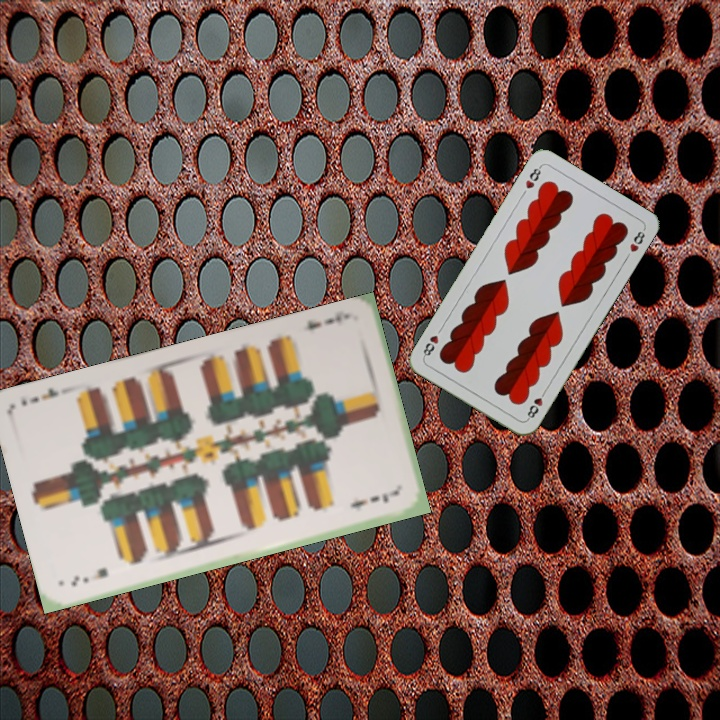E7: (302, 307, 353, 332), (67, 564, 111, 589)
H8: (523, 386, 549, 422), (521, 162, 544, 191)
